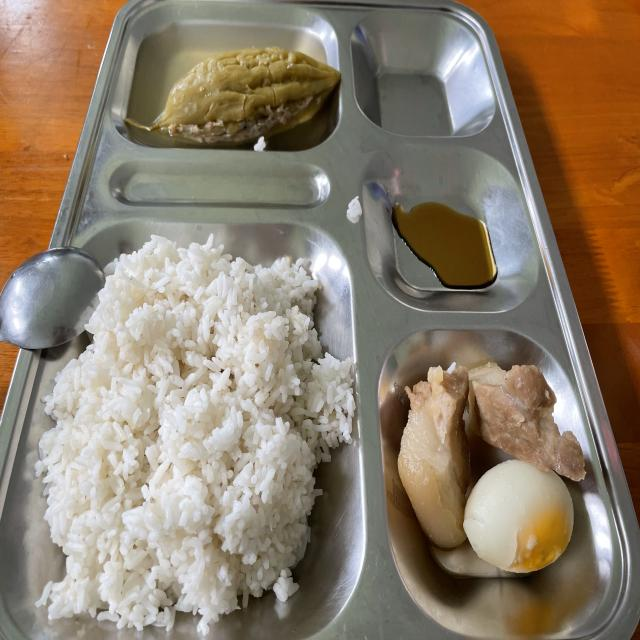com_trang: (97, 257, 335, 602)
thit_kho_trung: (401, 365, 591, 563)
